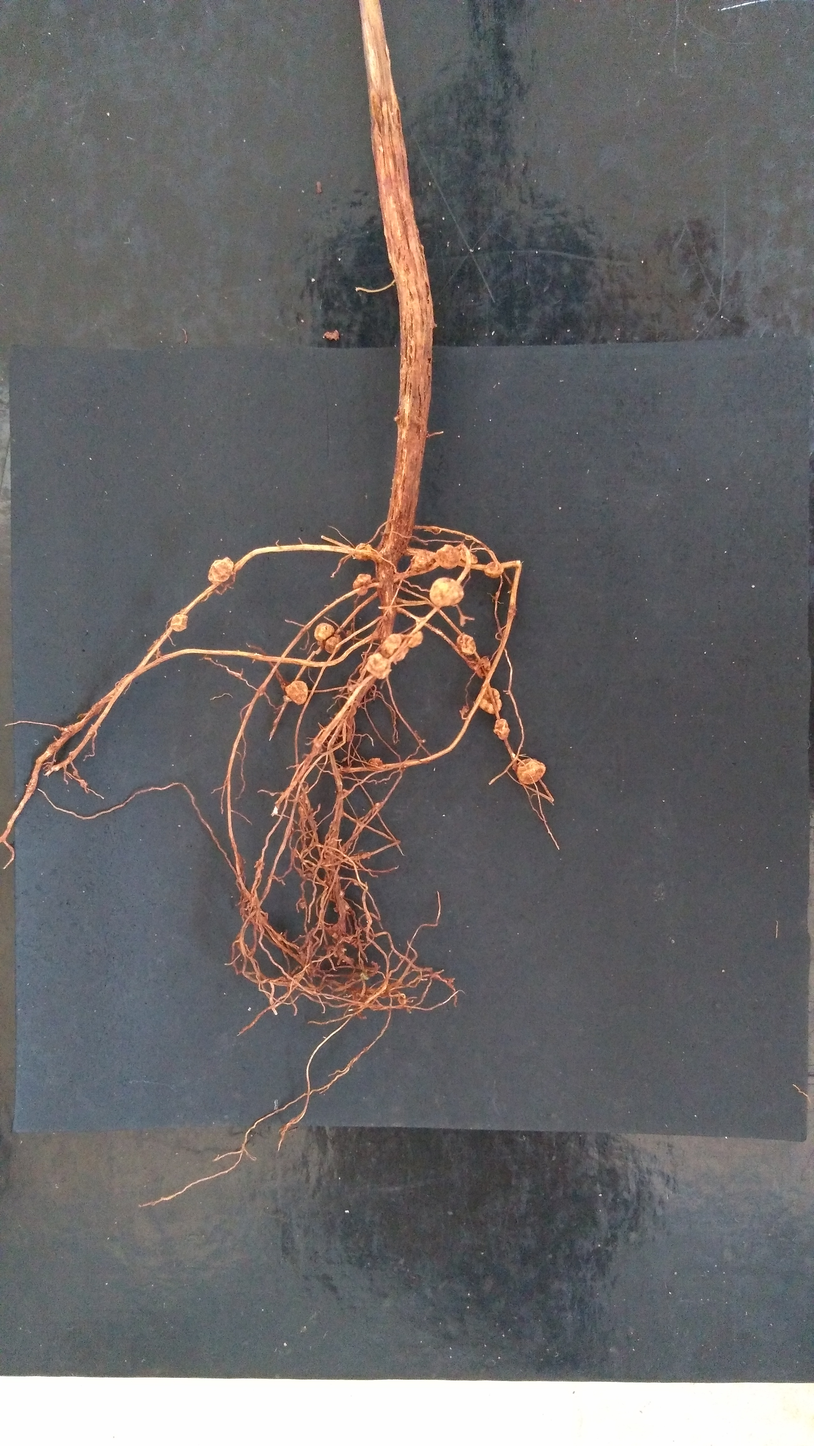nodule: (430, 578, 463, 606), (380, 634, 408, 661), (516, 758, 545, 784), (208, 557, 233, 583), (435, 544, 460, 569), (479, 687, 502, 714), (366, 654, 390, 678), (285, 680, 307, 705), (410, 552, 434, 572), (315, 623, 334, 648), (456, 633, 476, 656), (353, 573, 370, 595), (482, 561, 503, 578), (459, 546, 478, 564), (474, 657, 491, 677), (494, 718, 509, 740), (325, 634, 342, 653), (354, 543, 372, 560), (171, 614, 188, 631), (406, 631, 423, 647), (368, 758, 385, 770), (331, 922, 340, 939), (431, 526, 442, 534), (298, 898, 306, 908), (283, 695, 291, 703), (298, 803, 306, 811), (338, 890, 345, 898), (333, 905, 340, 912), (375, 802, 382, 808)
